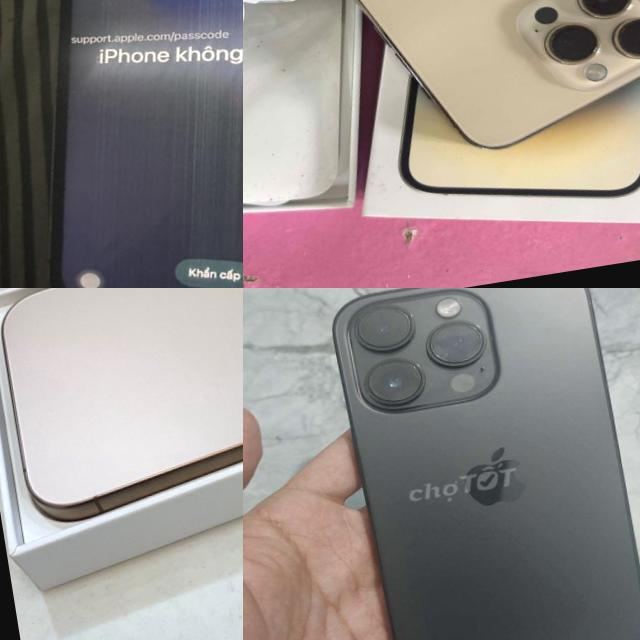gen_12_13: (0, 0, 243, 288)
gen_14: (306, 288, 640, 640), (254, 0, 640, 173)
gen_16: (0, 288, 243, 531)
